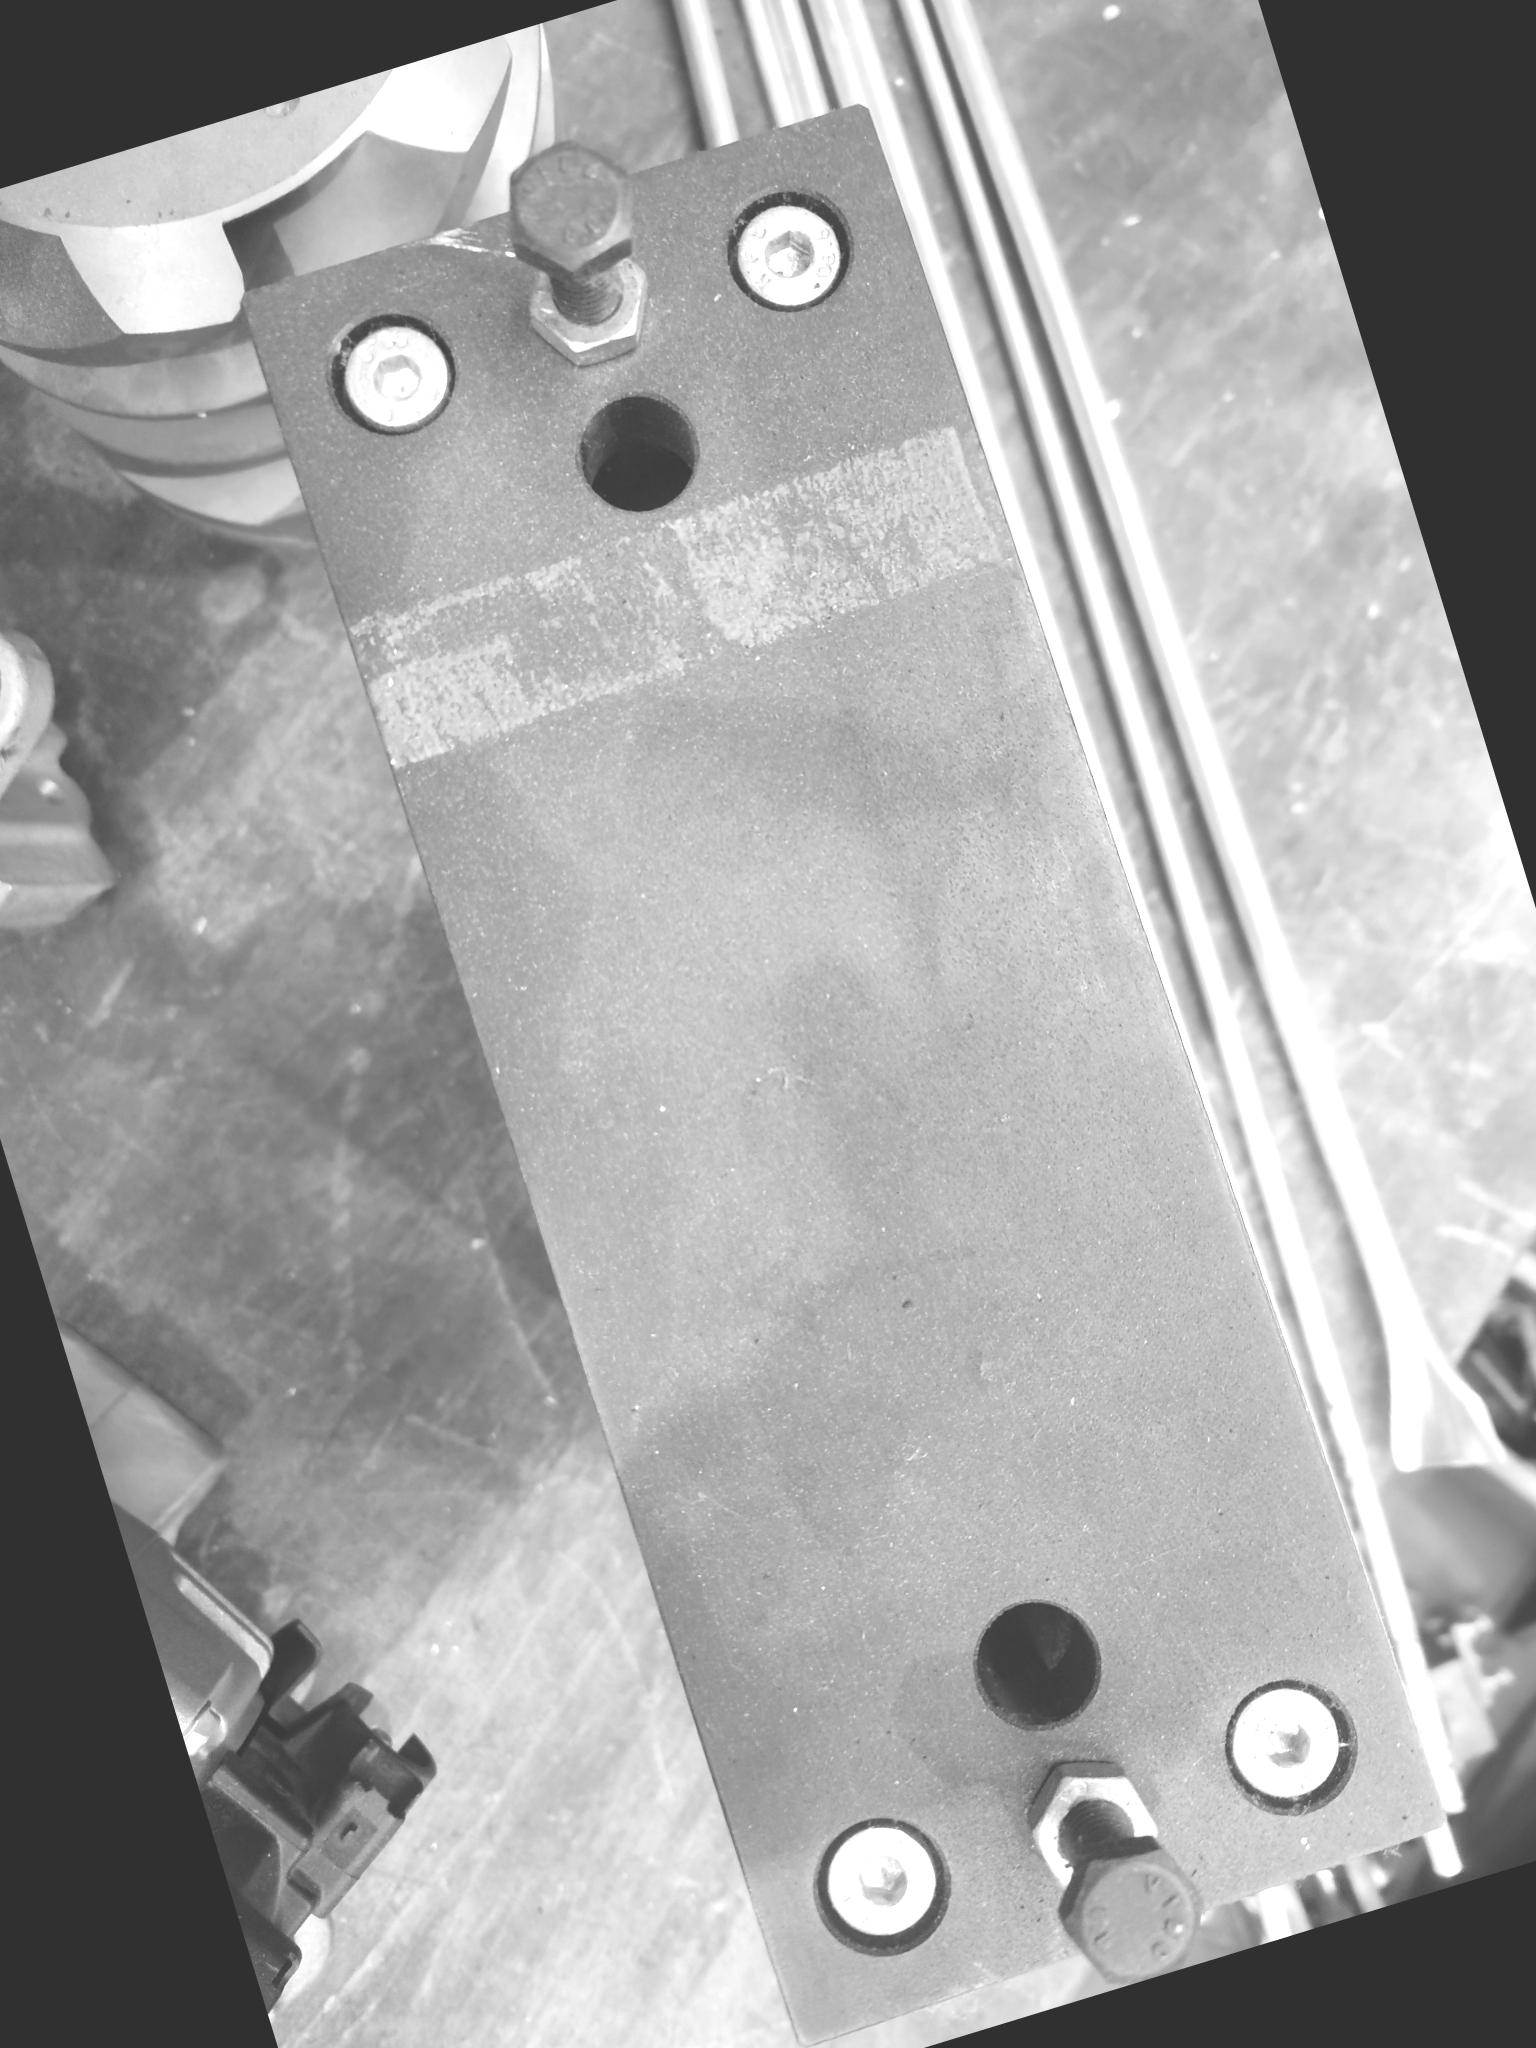allen: (791, 1796, 968, 1972), (305, 287, 481, 460), (705, 168, 873, 332), (1199, 1667, 1368, 1830)
hexagonal: (1033, 1817, 1221, 2000), (482, 121, 662, 300)
